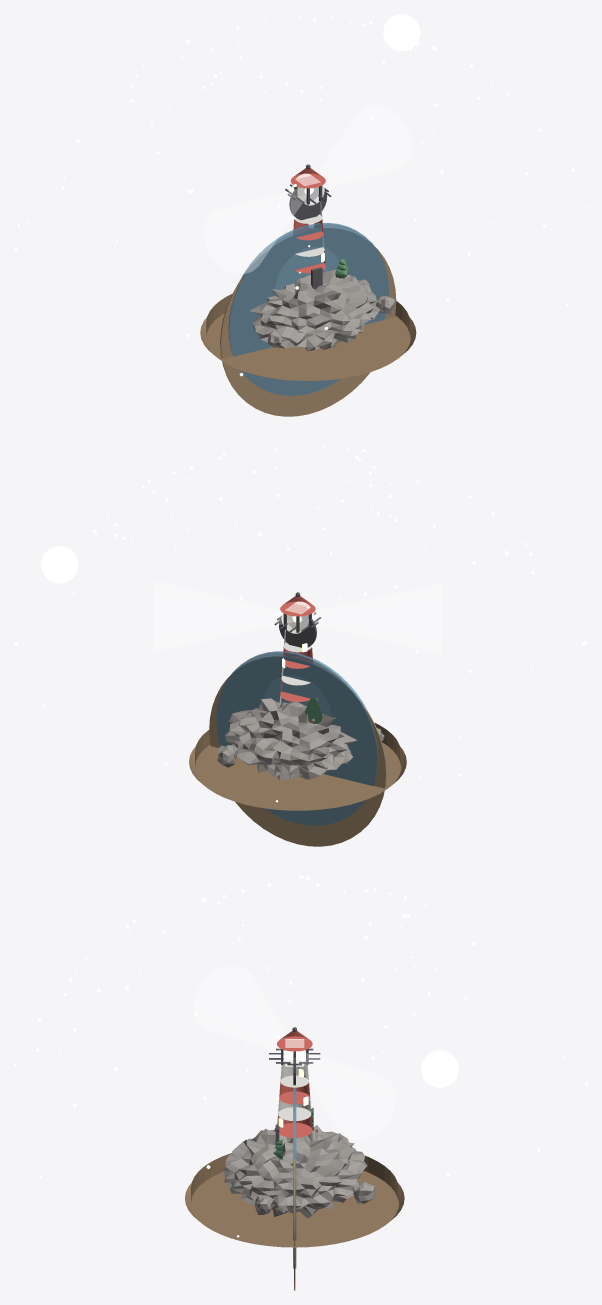
Rendered from beacon.glb.
The picture shows the model from 3 angles, top to bottom: view 1: azimuth 30°, elevation 25°; view 2: azimuth 150°, elevation 25°; view 3: azimuth 270°, elevation 25°; orthographic projection.
Visible parts, largest first — view 1: geometry_2, geometry_5, geometry_3, geometry_40, geometry_0, geometry_39, geometry_1, geometry_49, geometry_4, geometry_18, geometry_50, geometry_35; view 2: geometry_2, geometry_5, geometry_3, geometry_39, geometry_40, geometry_0, geometry_1, geometry_49, geometry_4, geometry_18, geometry_50, geometry_35 (+1 smaller); view 3: geometry_3, geometry_0, geometry_1, geometry_39, geometry_40, geometry_49, geometry_50, geometry_5, geometry_13.
Part boxes in pixels (<box>): geometry_2: <box>220,228,396,416</box>; geometry_5: <box>228,222,389,395</box>; geometry_3: <box>249,270,380,351</box>; geometry_40: <box>204,189,306,273</box>; geometry_0: <box>206,294,410,380</box>; geometry_39: <box>317,105,412,187</box>; geometry_1: <box>200,313,416,380</box>; geometry_49: <box>383,14,420,51</box>; geometry_4: <box>275,247,338,288</box>; geometry_18: <box>289,187,327,220</box>; geometry_50: <box>14,15,587,376</box>; geometry_35: <box>292,173,324,205</box>; geometry_2: <box>209,657,386,846</box>; geometry_5: <box>216,651,378,825</box>; geometry_3: <box>225,698,357,779</box>; geometry_39: <box>153,581,288,651</box>; geometry_40: <box>312,584,442,654</box>; geometry_0: <box>195,723,400,810</box>; geometry_1: <box>189,746,406,810</box>; geometry_49: <box>41,546,78,583</box>; geometry_4: <box>264,676,330,715</box>; geometry_18: <box>279,615,316,647</box>; geometry_50: <box>14,445,587,802</box>; geometry_35: <box>281,601,314,633</box>; geometry_3: <box>223,1125,367,1217</box>; geometry_0: <box>191,1153,398,1247</box>; geometry_1: <box>185,1171,404,1247</box>; geometry_39: <box>296,1052,395,1139</box>; geometry_40: <box>193,965,286,1052</box>; geometry_49: <box>421,1050,458,1087</box>; geometry_50: <box>14,875,587,1237</box>; geometry_5: <box>293,1087,296,1268</box>; geometry_13: <box>280,1060,308,1087</box>.
Bounding box in the file's own units: 16.37 × 11.8 × 16.6.
